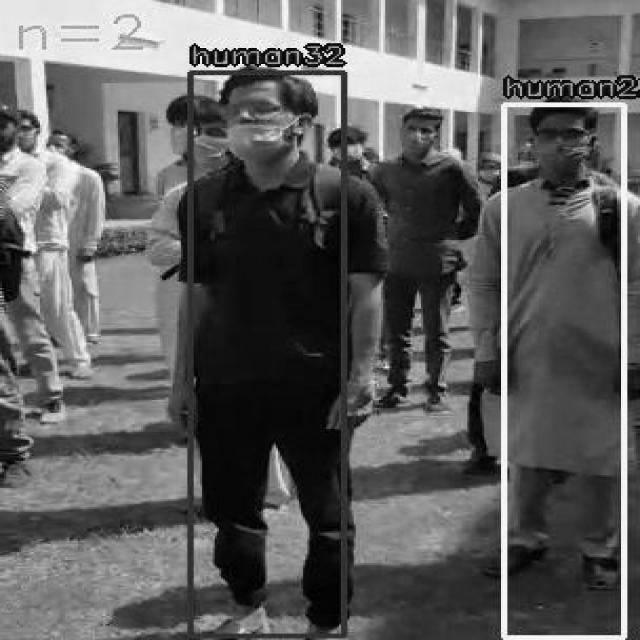person: (188, 70, 344, 636), (501, 102, 623, 637)
